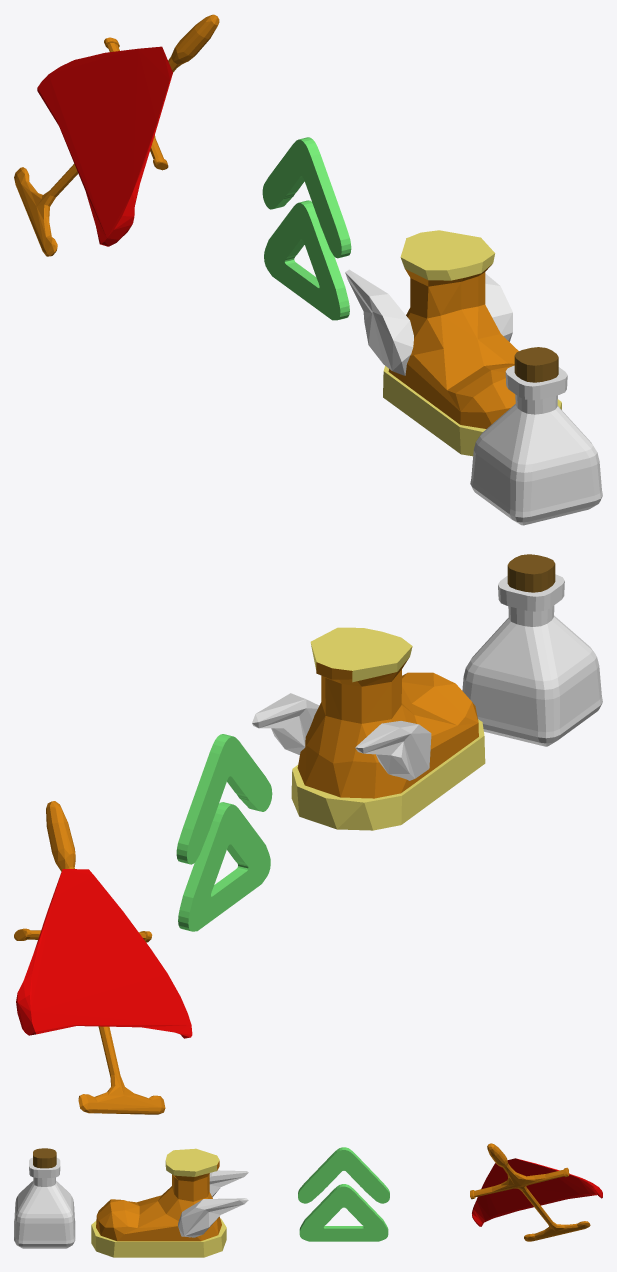
File: powerUps.fbx
3 renders of one model, top to bottom at view 1: azimuth 30°, elevation 25°; view 2: azimuth 150°, elevation 25°; view 3: azimuth 270°, elevation 25°, orthographic. The views are drawn at different scales.
Visible parts, largest first — view 1: Plane, Cube.002, Cube, Cube.001, Plane.001; view 2: Plane, Cube.002, Cube, Cube.001, Plane.001; view 3: Plane, Cube.002, Cube.001, Cube, Plane.001.
Boxes of the visible parts, <box> form: Plane: <box>383,230,561,456</box>; Cube.002: <box>14,14,219,256</box>; Cube: <box>470,347,602,525</box>; Cube.001: <box>262,137,351,320</box>; Plane.001: <box>345,269,512,375</box>; Plane: <box>291,627,485,830</box>; Cube.002: <box>14,801,192,1114</box>; Cube: <box>462,554,602,746</box>; Cube.001: <box>176,734,272,931</box>; Plane.001: <box>252,693,431,780</box>; Plane: <box>91,1148,226,1257</box>; Cube.002: <box>470,1143,602,1241</box>; Cube.001: <box>298,1147,389,1241</box>; Cube: <box>14,1148,75,1248</box>; Plane.001: <box>178,1170,248,1237</box>.
Size of the model in its own units: 275 by 356 by 1400.
